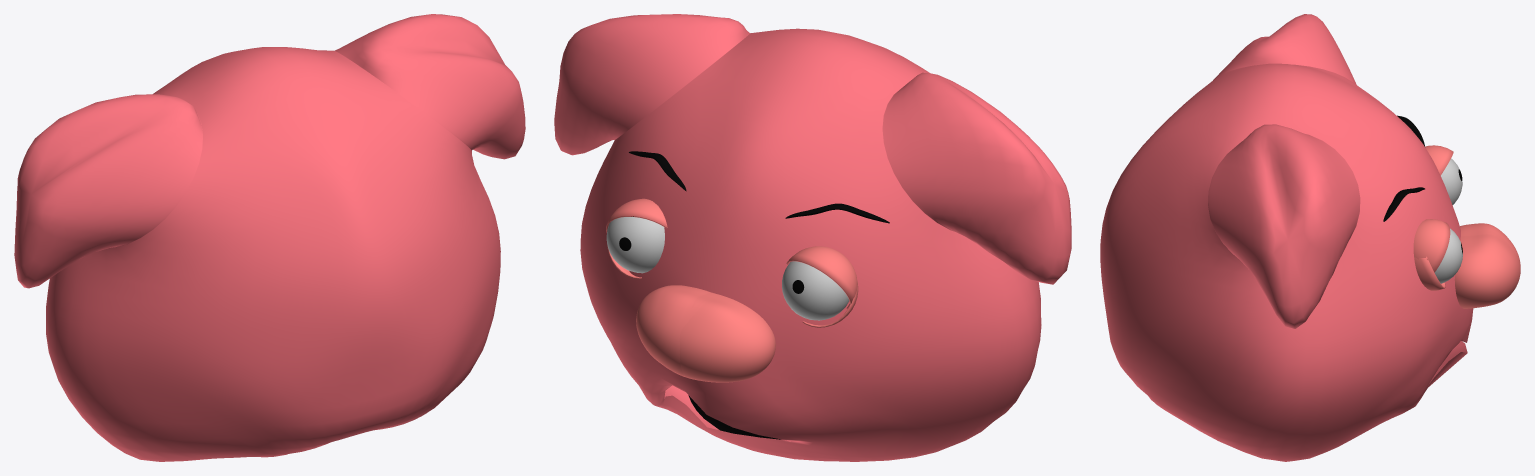
Rendered from [9]upperLip.obj.
The picture shows the model from 3 angles, left to right: view 1: azimuth 30°, elevation 25°; view 2: azimuth 150°, elevation 25°; view 3: azimuth 270°, elevation 25°; orthographic projection. The views are drawn at different scales.
Parts seen in each view (by area): view 1: Head_Roundcube; view 2: Head_Roundcube, Head.002_Roundcube.002, Eyeball.001_Sphere.005, Eyeball_Sphere, Eyelid_Bottom_Left.003_Sphere.011, Head.001_Roundcube.001, Eyelid_Bottom_Left.002_Sphere.009; view 3: Head_Roundcube, Head.002_Roundcube.002, Eyelid_Bottom_Left.002_Sphere.009, Eyeball_Sphere, Eyeball.001_Sphere.005, Eyelid_Bottom_Left_Sphere.003, Head.001_Roundcube.001, Eyelid_Bottom_Left.003_Sphere.011.
Part boxes in pixels (box(x1,y1,x2,y2)): Head_Roundcube: box(14, 14, 525, 461); Head_Roundcube: box(554, 14, 1071, 461); Head.002_Roundcube.002: box(636, 285, 775, 382); Eyeball.001_Sphere.005: box(782, 261, 849, 320); Eyeball_Sphere: box(606, 217, 664, 273); Eyelid_Bottom_Left.003_Sphere.011: box(786, 246, 857, 308); Head.001_Roundcube.001: box(629, 151, 889, 223); Eyelid_Bottom_Left.002_Sphere.009: box(606, 198, 667, 232); Head_Roundcube: box(1100, 14, 1473, 461); Head.002_Roundcube.002: box(1454, 223, 1520, 308); Eyelid_Bottom_Left.002_Sphere.009: box(1413, 219, 1450, 272); Eyeball_Sphere: box(1434, 228, 1462, 283); Eyeball.001_Sphere.005: box(1441, 158, 1462, 204); Eyelid_Bottom_Left_Sphere.003: box(1414, 256, 1445, 290); Head.001_Roundcube.001: box(1383, 115, 1424, 221); Eyelid_Bottom_Left.003_Sphere.011: box(1425, 145, 1453, 175).
Bounding box in the file's own units: 3.92 × 2.85 × 3.16.
